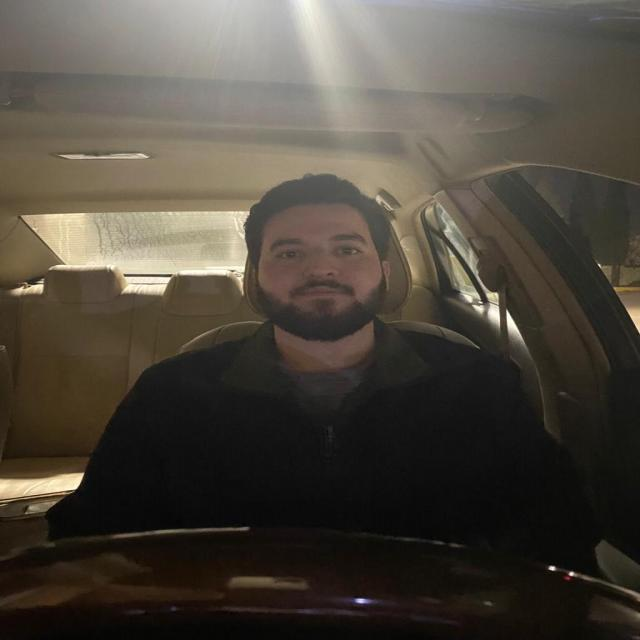person: (238, 170, 402, 349)
